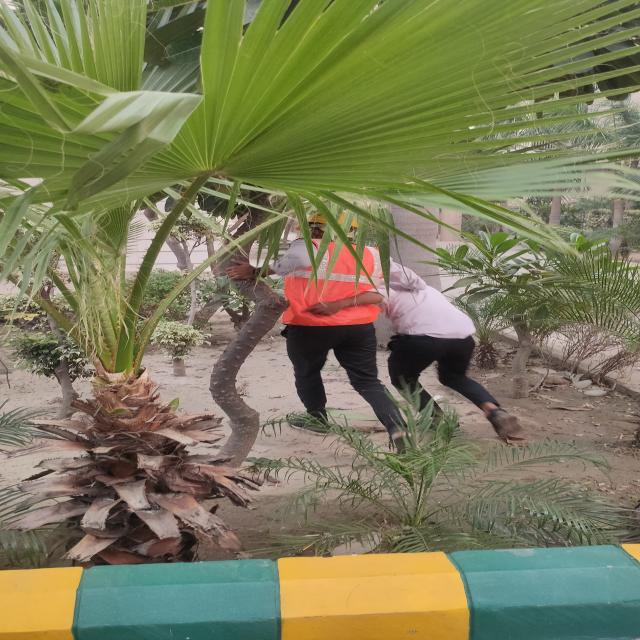safe: (272, 208, 412, 456)
unsafe: (378, 253, 524, 452)
